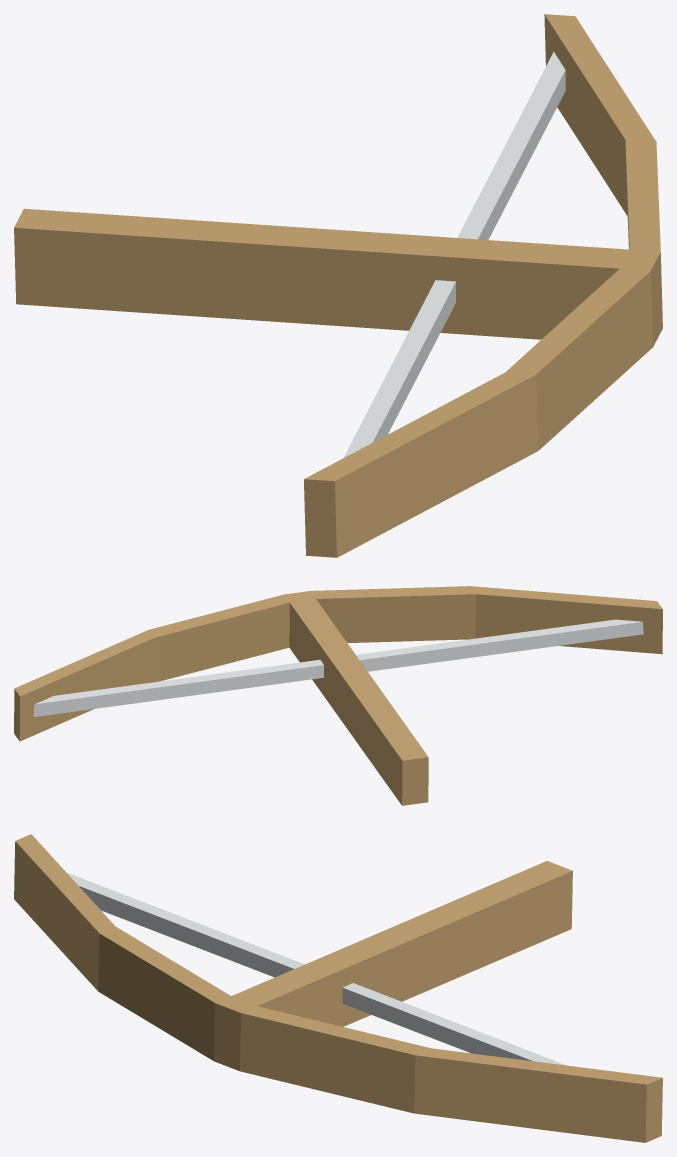
Rendered from wooden_crossbow.glb.
3 views of the same model, one above another, from view 1: azimuth 30°, elevation 25°; view 2: azimuth 150°, elevation 25°; view 3: azimuth 270°, elevation 25° (orthographic). The views are drawn at different scales.
Parts seen in each view (by area): view 1: wooden_crossbow; view 2: wooden_crossbow; view 3: wooden_crossbow.
Boxes of the visible parts, left/top/right/bottom form: wooden_crossbow: left=14, top=14, right=662, bottom=557; wooden_crossbow: left=14, top=586, right=662, bottom=805; wooden_crossbow: left=14, top=834, right=662, bottom=1142.
Size of the model in its own units: 0.1965 by 0.0254 by 0.2147.
